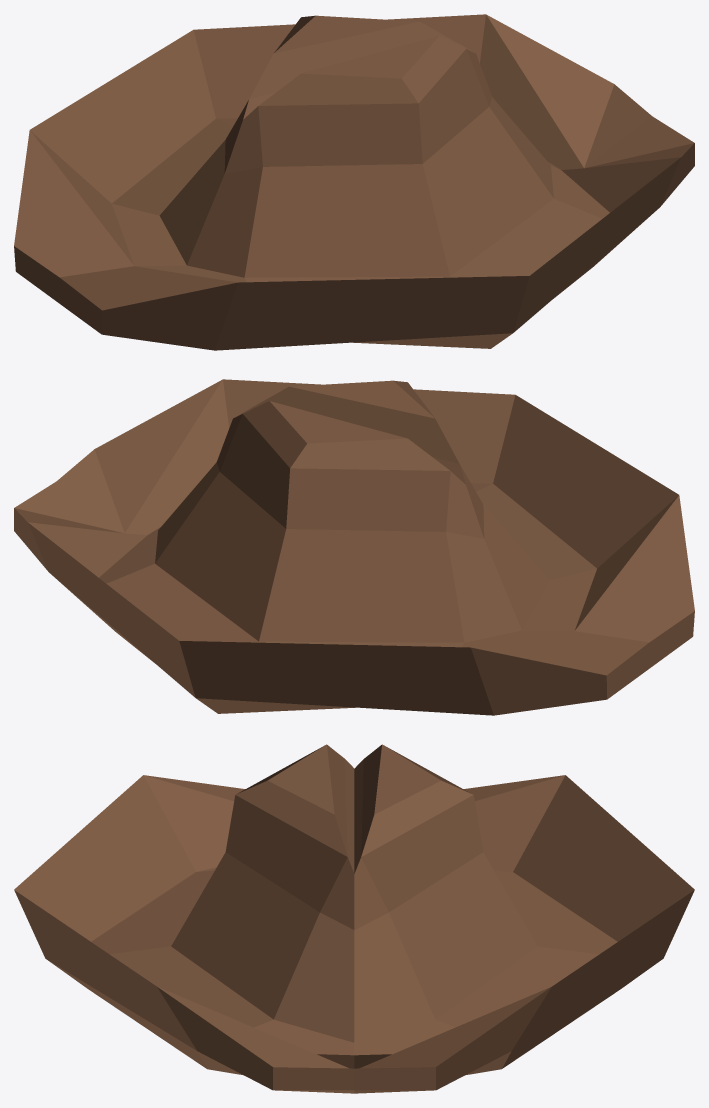
Rendered from sombrero.fbx.
3 views of the same model, one above another, from view 1: azimuth 30°, elevation 25°; view 2: azimuth 150°, elevation 25°; view 3: azimuth 270°, elevation 25° (orthographic).
Visible parts, largest first — view 1: Circle; view 2: Circle; view 3: Circle.
Boxes of the visible parts, <box> form: Circle: <box>14,14,694,350</box>; Circle: <box>14,379,694,715</box>; Circle: <box>14,744,694,1093</box>.
Bounding box in the file's own units: 182 × 61.65 × 186.
